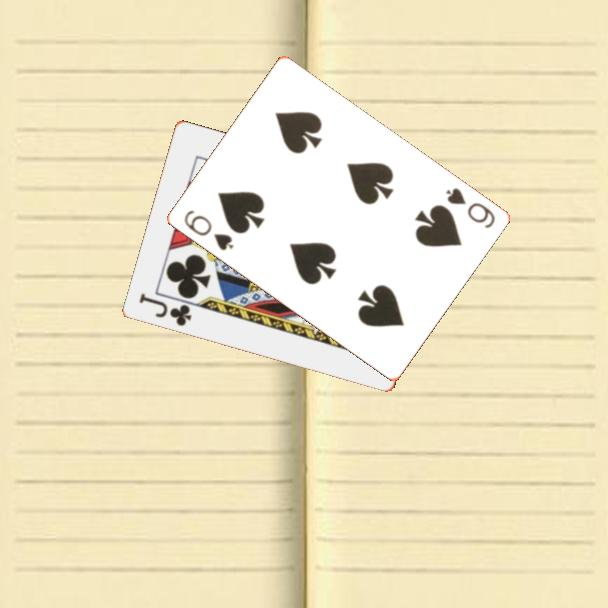c11: (136, 289, 195, 329)
s06: (180, 206, 237, 254), (441, 184, 498, 232)
